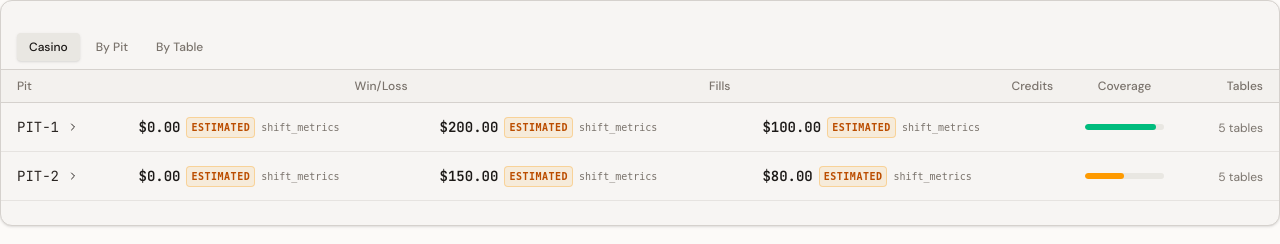
Test: MetricsTable › switches to By Table tab and shows tables
The width and height of the screenshot is (1280, 244).
Click the tab "By Table". click: (180, 47)
box: [144,33,215,61]
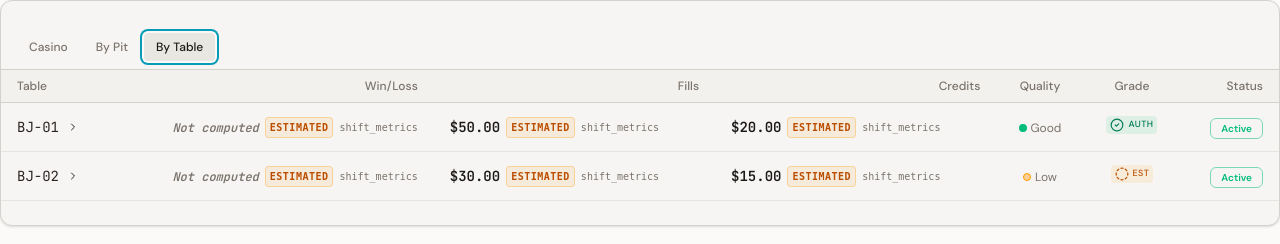
Check: the button "BJ-01" is shown, box [17,117,79,137]
Check: the button "BJ-02" is shown, box [17,166,79,186]
